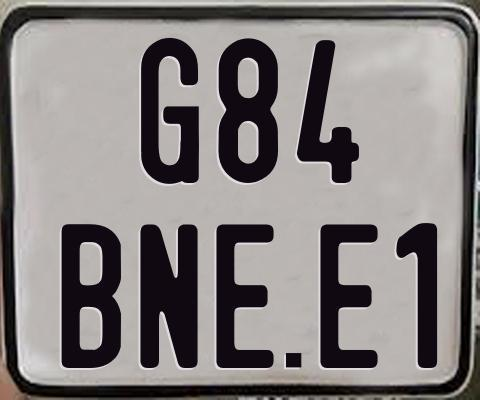1: (396, 220, 437, 370)
4: (294, 37, 359, 184)
8: (218, 35, 280, 180)
B: (59, 224, 119, 372)
E: (216, 222, 275, 366), (320, 224, 378, 369)
G: (140, 37, 199, 184)
N: (139, 222, 198, 370)
